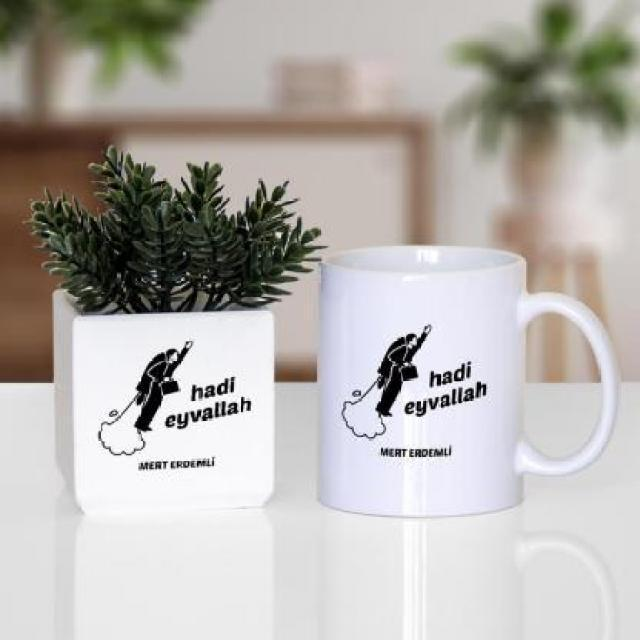taza: (302, 232, 624, 535)
